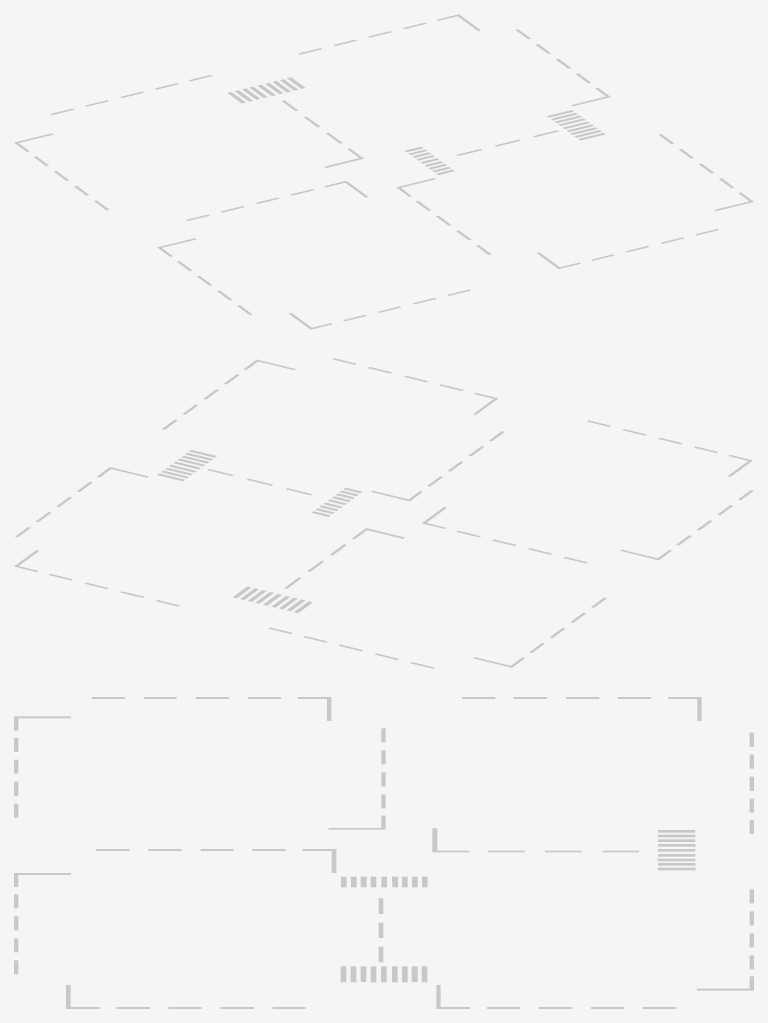
Rendered from road_lines_12_world_ap_0_lev1.glb.
3 views of the same model, one above another, from view 1: azimuth 30°, elevation 25°; view 2: azimuth 150°, elevation 25°; view 3: azimuth 270°, elevation 25° (orthographic). The views are drawn at different scales.
Visible parts, largest first — view 1: road_lines_12_world_ap_0_lev1; view 2: road_lines_12_world_ap_0_lev1; view 3: road_lines_12_world_ap_0_lev1.
Boxes of the visible parts, x1,y1,x2,y2 form: road_lines_12_world_ap_0_lev1: (14,14,753,329); road_lines_12_world_ap_0_lev1: (14,358,753,668); road_lines_12_world_ap_0_lev1: (14,697,753,1008).
Bounding box in the file's own units: 19.06 × 8.28e-07 × 19.11.
Materials: 1 (1 with a texture image).
